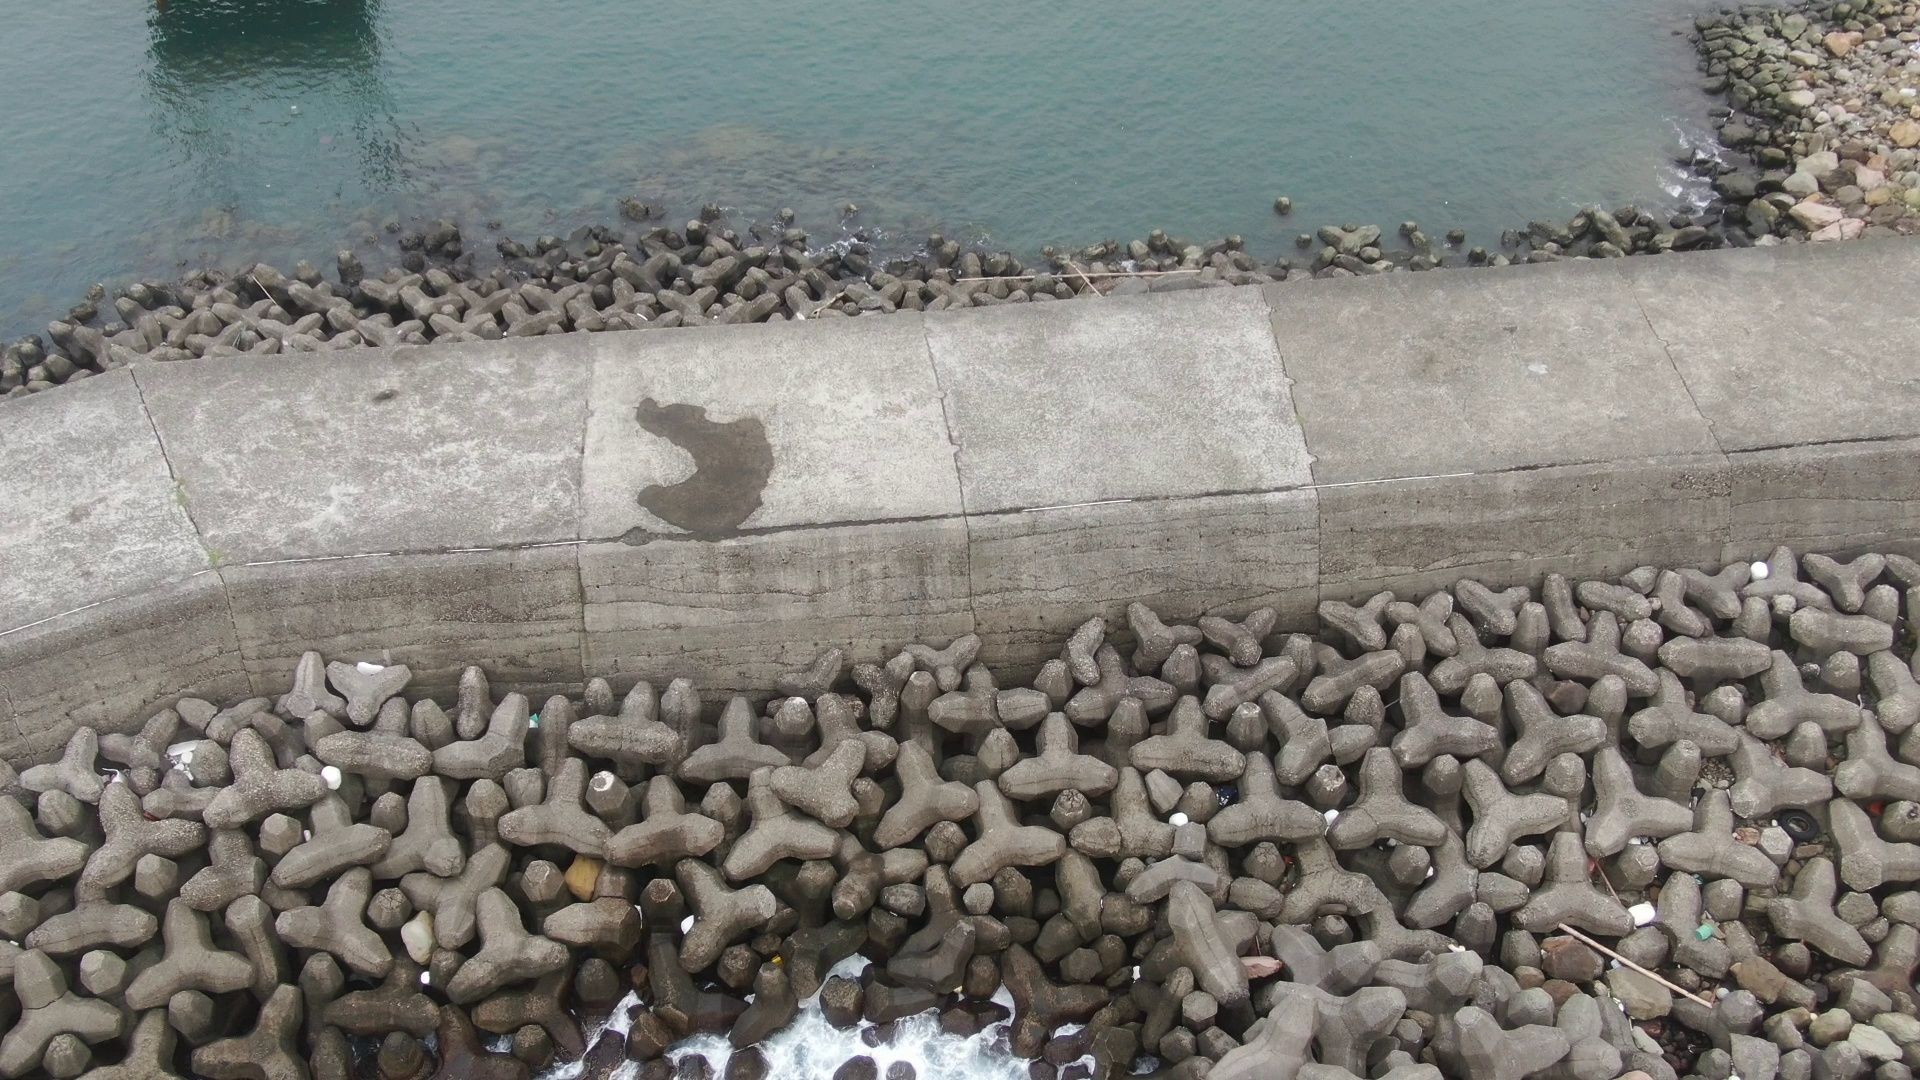garbage: (1770, 796, 1832, 852), (559, 843, 612, 905), (313, 756, 345, 800), (1684, 913, 1721, 951), (670, 905, 707, 942), (1623, 899, 1662, 934), (1739, 553, 1778, 583), (524, 705, 554, 738), (1578, 849, 1611, 880), (1166, 802, 1195, 835)
